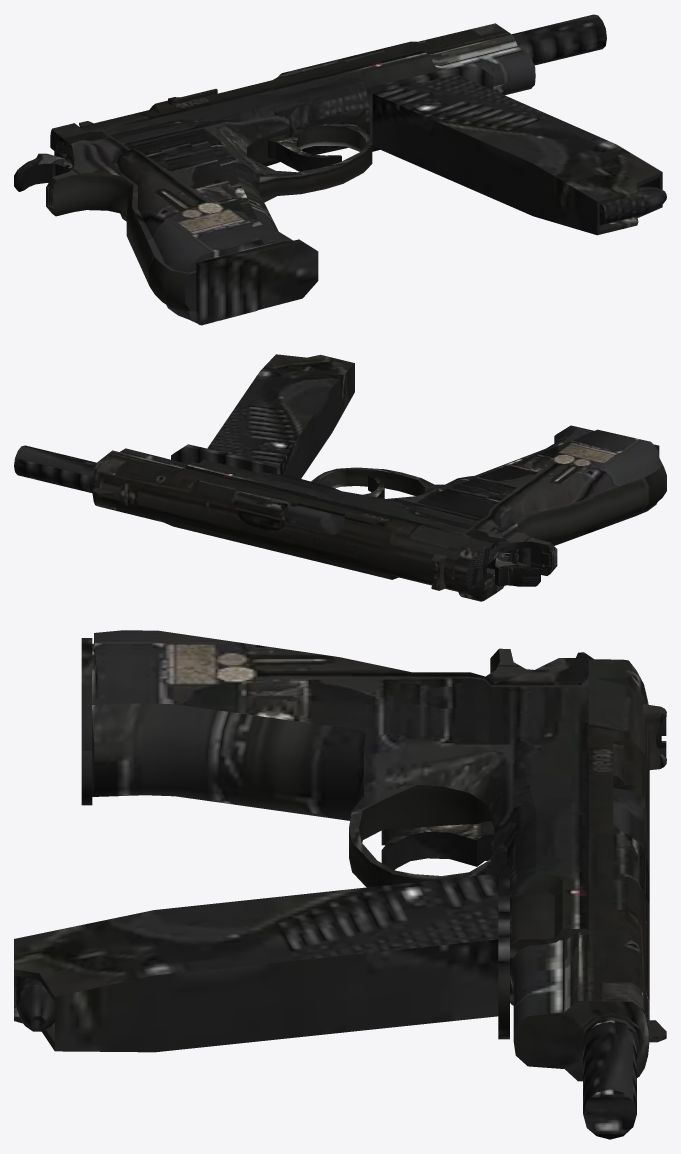
File: t5_weapon_cz75_dw_rh_viewmodel.glb
3 renders of one model, top to bottom at view 1: azimuth 30°, elevation 25°; view 2: azimuth 150°, elevation 25°; view 3: azimuth 270°, elevation 25°, orthographic. The views are drawn at different scales.
Visible parts, largest first — view 1: t5_weapon_cz75_dw_rh_viewmodel; view 2: t5_weapon_cz75_dw_rh_viewmodel; view 3: t5_weapon_cz75_dw_rh_viewmodel.
Part boxes in pixels (bbox=[...]): t5_weapon_cz75_dw_rh_viewmodel: bbox=[14, 14, 666, 325]; t5_weapon_cz75_dw_rh_viewmodel: bbox=[14, 354, 666, 601]; t5_weapon_cz75_dw_rh_viewmodel: bbox=[14, 630, 666, 1139].
Size of the model in its own units: 0.2397 by 0.0311 by 0.1483.
1 material, 1 textured.
